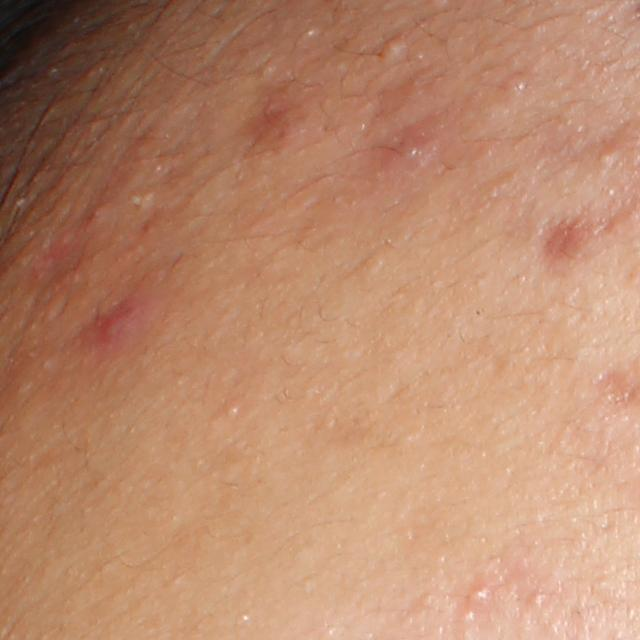comedo: (379, 33, 407, 56), (500, 72, 529, 94), (595, 147, 616, 166), (223, 403, 242, 421), (524, 591, 543, 609)
papule: (90, 303, 147, 351), (394, 121, 446, 168), (466, 583, 492, 609)
